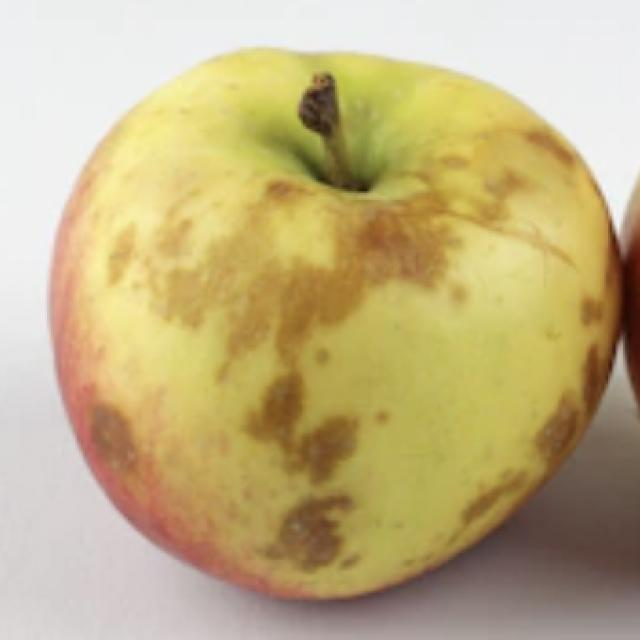Rotten: (45, 40, 622, 600)
